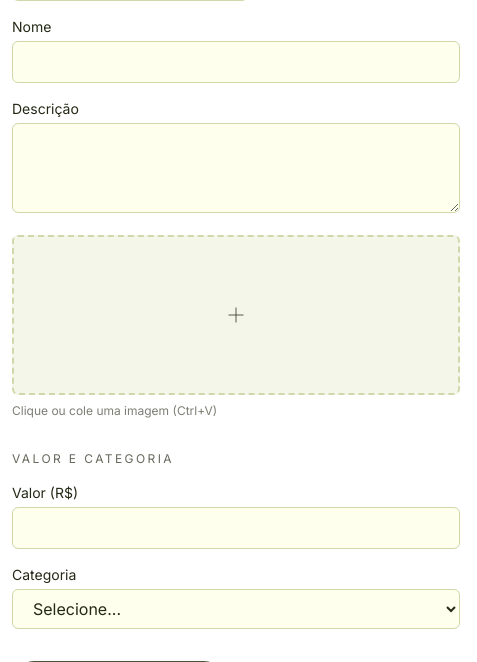
Test: GiftForm › switches to a free-text category input when '+ Nova categoria' is chosen
This screenshot has width=477, height=662.
(page scrolled)
Select "+ Nova categoria" in the dropdown labelled "Categoria" at point(236, 609), box [12, 589, 460, 629]
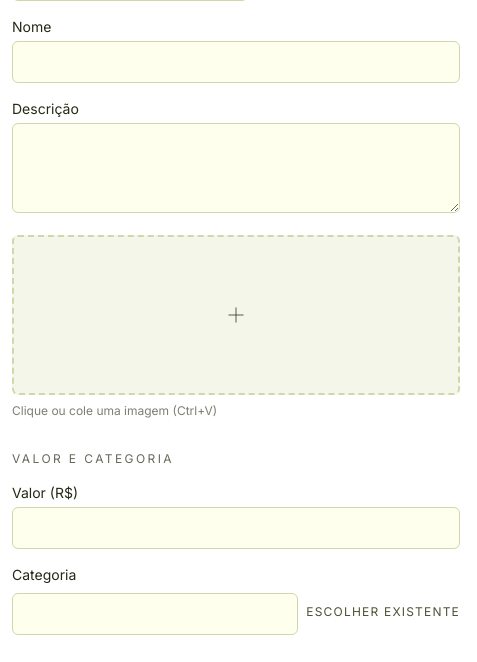
expect the button "Escolher existente" is shown: met, box [306, 604, 460, 620]
